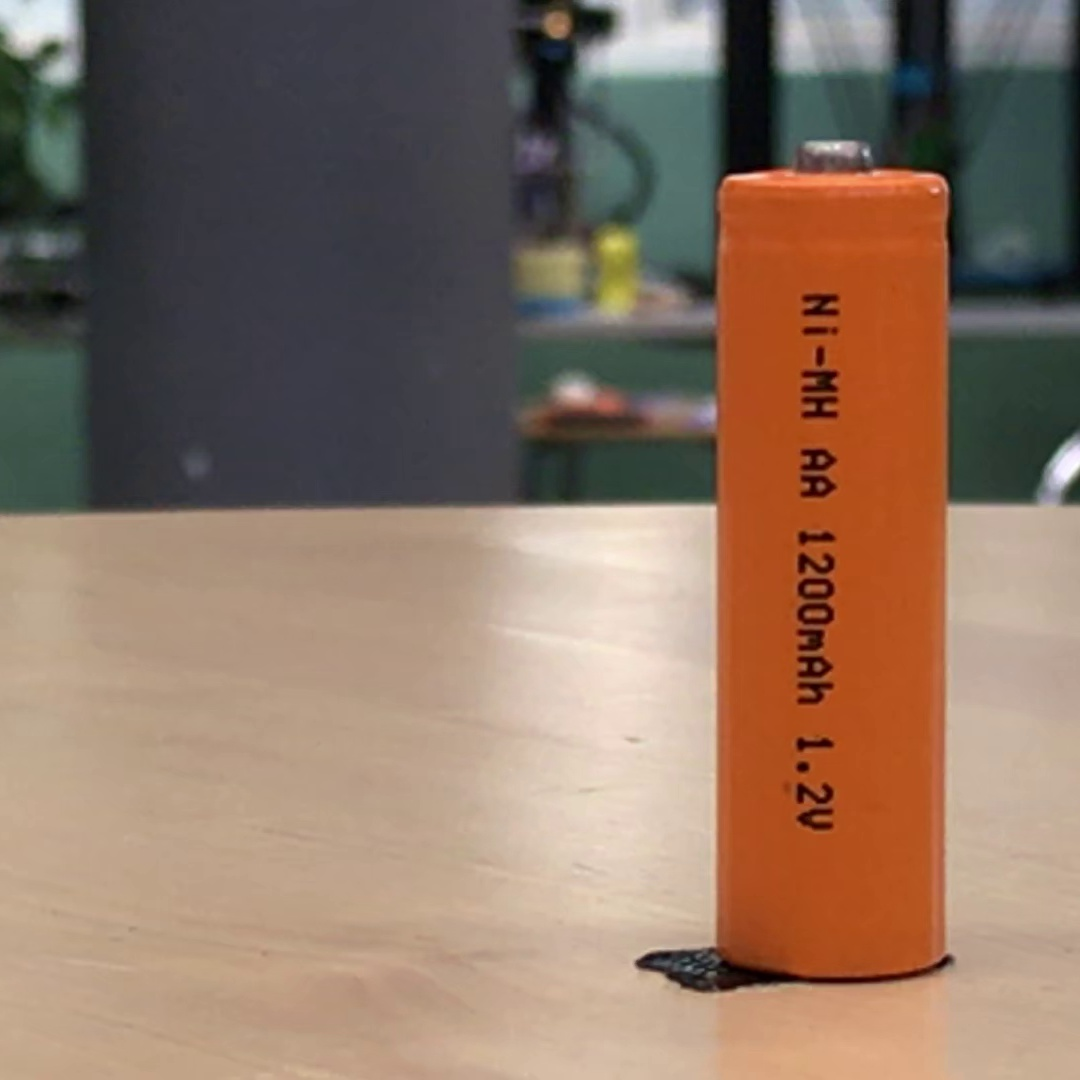keyword: (793, 284, 848, 428)
